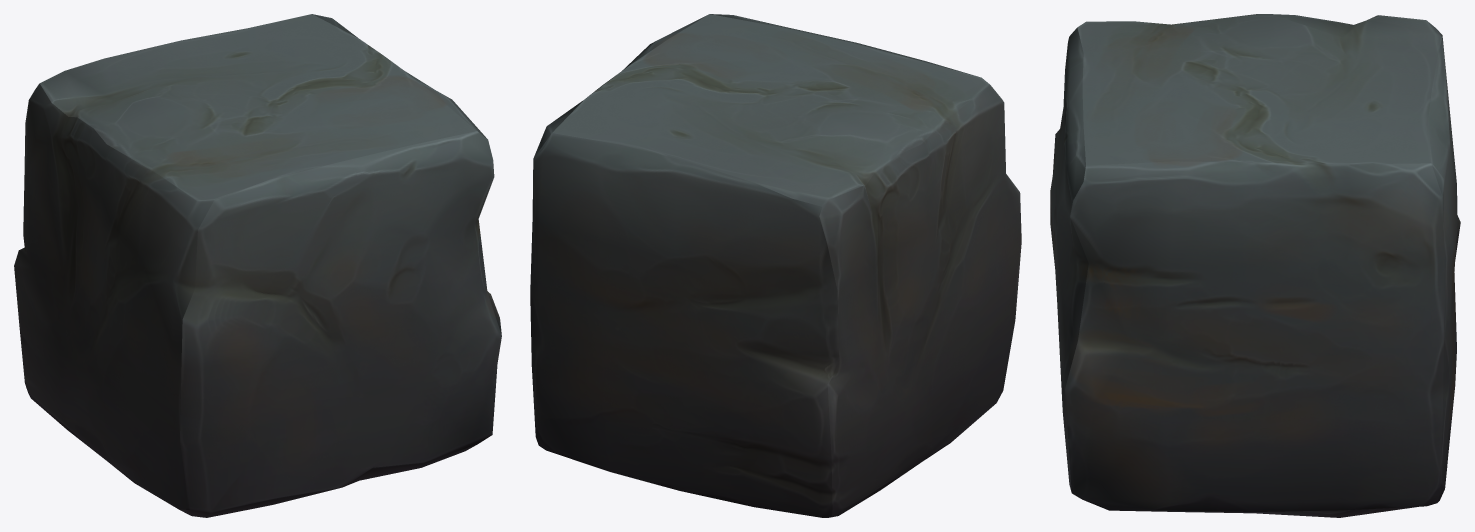
The picture shows the model from 3 angles, left to right: view 1: azimuth 30°, elevation 25°; view 2: azimuth 150°, elevation 25°; view 3: azimuth 270°, elevation 25°; orthographic projection. The views are drawn at different scales.
Visible parts, largest first — view 1: cube_rock_A_LOD0_cube_rock_A_mat_0; view 2: cube_rock_A_LOD0_cube_rock_A_mat_0; view 3: cube_rock_A_LOD0_cube_rock_A_mat_0.
Part boxes in pixels (box(x1,y1,x2,y2)): cube_rock_A_LOD0_cube_rock_A_mat_0: box(14, 14, 501, 517); cube_rock_A_LOD0_cube_rock_A_mat_0: box(530, 14, 1021, 517); cube_rock_A_LOD0_cube_rock_A_mat_0: box(1050, 14, 1460, 517).
Bounding box in the file's own units: 1 × 1.01 × 1.03.
Materials: 1 (1 with a texture image).
